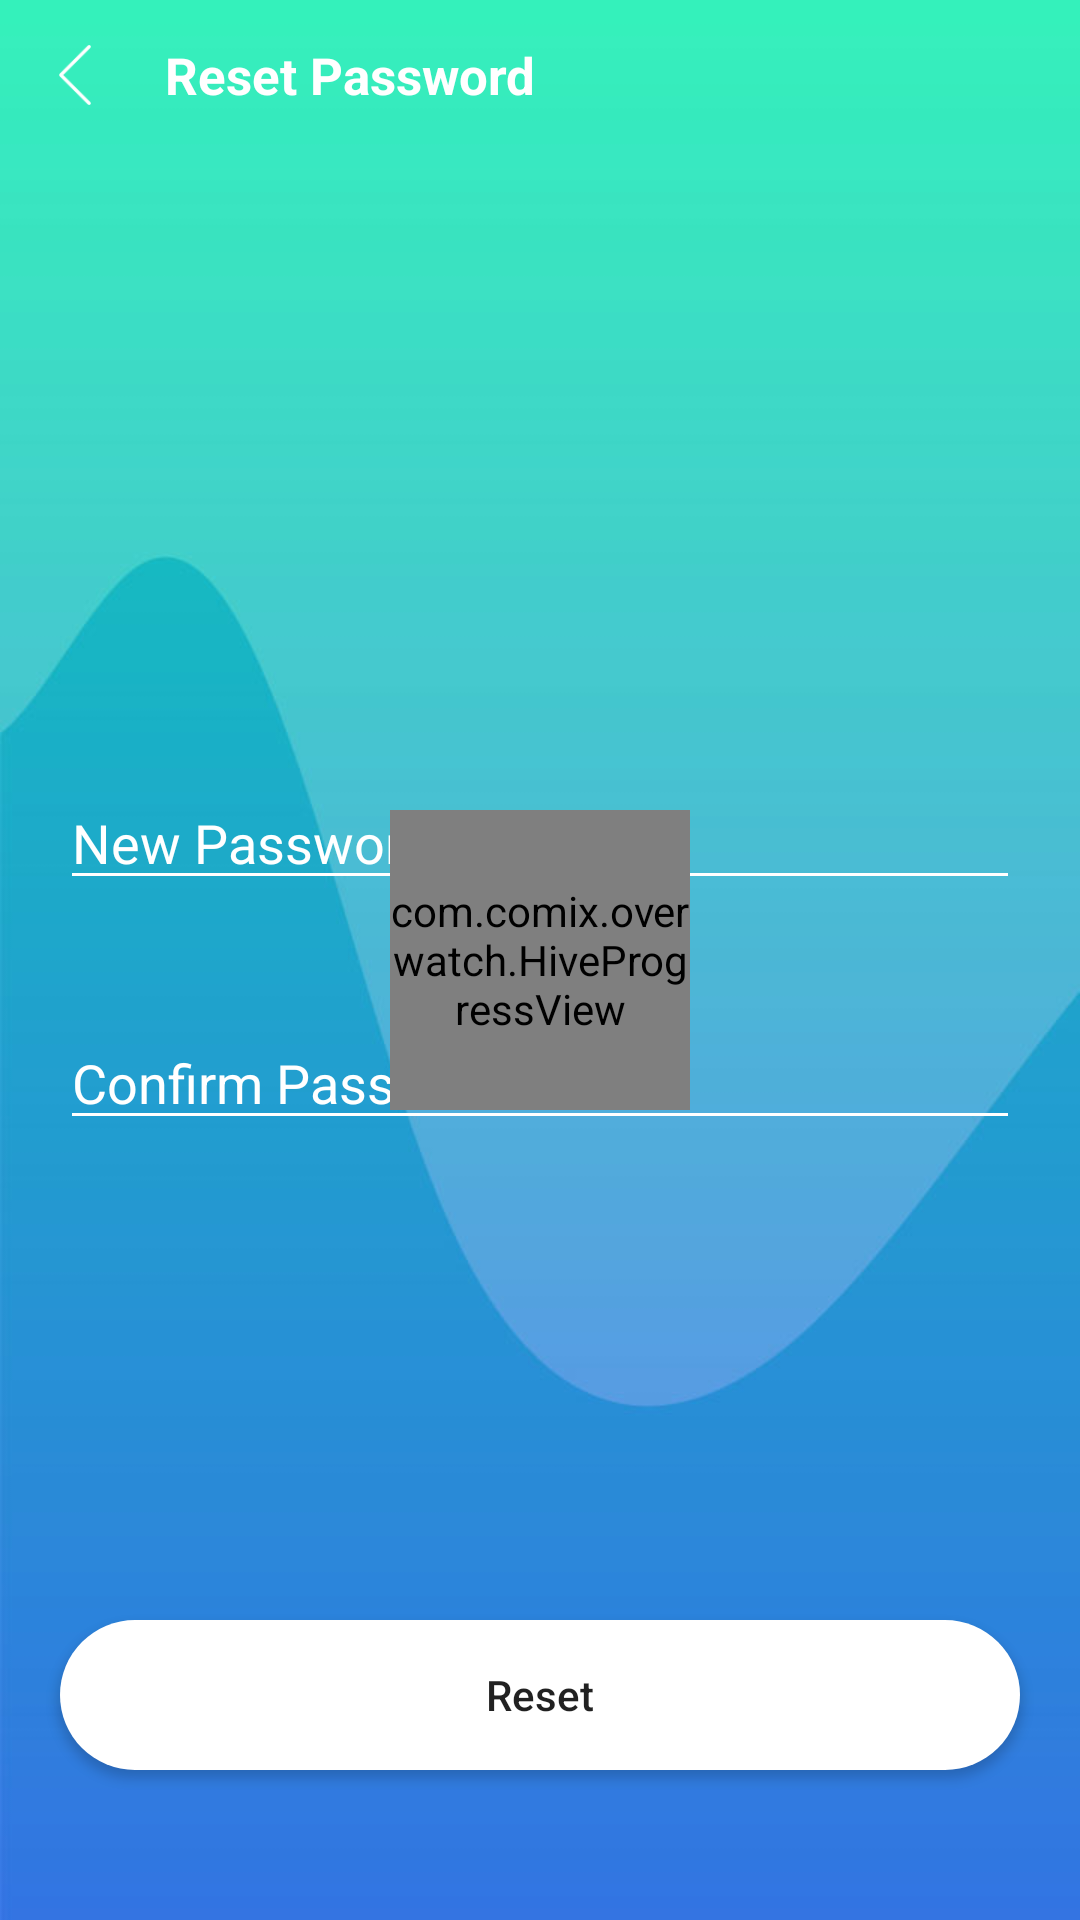

Icon bounding boxes for this 1080*1920 phone screenshot, format (x1, y1, x2, y2):
whiteback: (59, 45, 91, 105)
